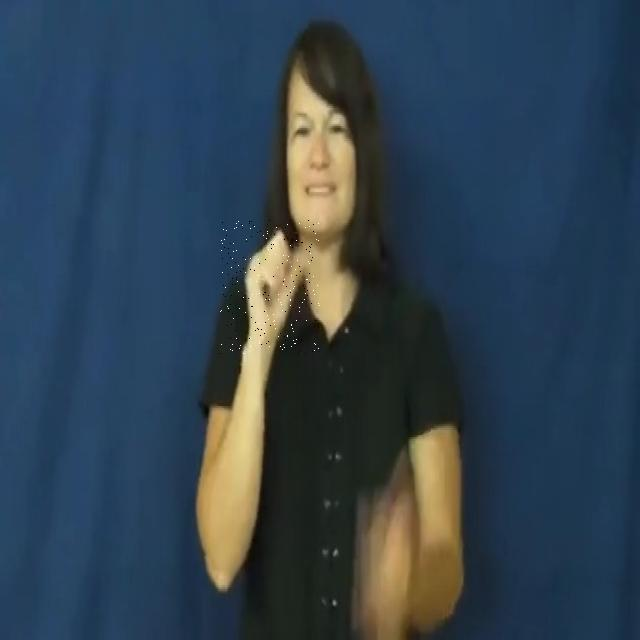hot: (220, 220, 320, 354)
